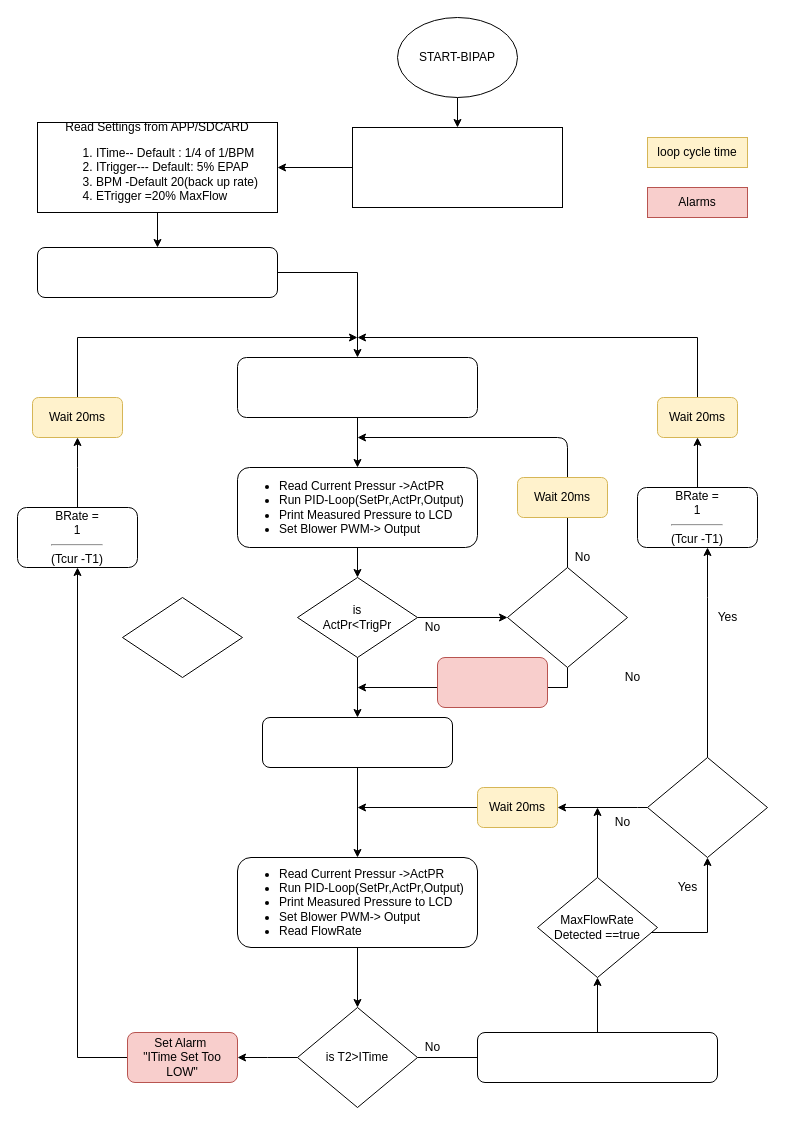
The diagram is 785 pixels wide and 1125 high, and some of its shapes have lost their labels. The shapes that lost their labels are listed below. From the top down, each one's box as (x1, y1, x2, y2) in pixels, then its label:
(352, 126, 562, 208): Read Settings from POT IPAP EPAP BPM (back up Rate)
(36, 246, 278, 298): ETime=1/BPM - ITime TrigPr=EPAP*ITrigger/100
(236, 356, 478, 418): SetPr=EPAP T1= 0
(506, 566, 628, 668): is T1>ETime
(436, 656, 548, 708): Set Alarm "No Breath Detected"
(262, 716, 452, 768): SetPr=IPAP, MaxFlowRateDetected=False T2= 0
(646, 756, 768, 858): IS FlowRate< ETrigger
(476, 1032, 718, 1082): Detect Max Flow Rate Set MaFR = peak flow MaxFlowRateDetected =True
